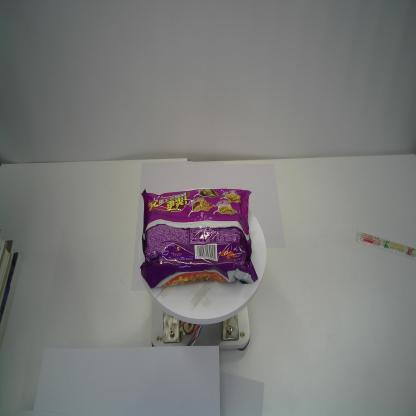Instant Noodles: (140, 187, 259, 289)
